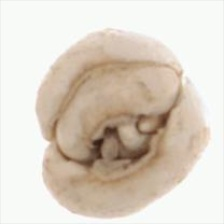L3: (51, 59, 183, 182)
L4: (35, 27, 210, 219)
